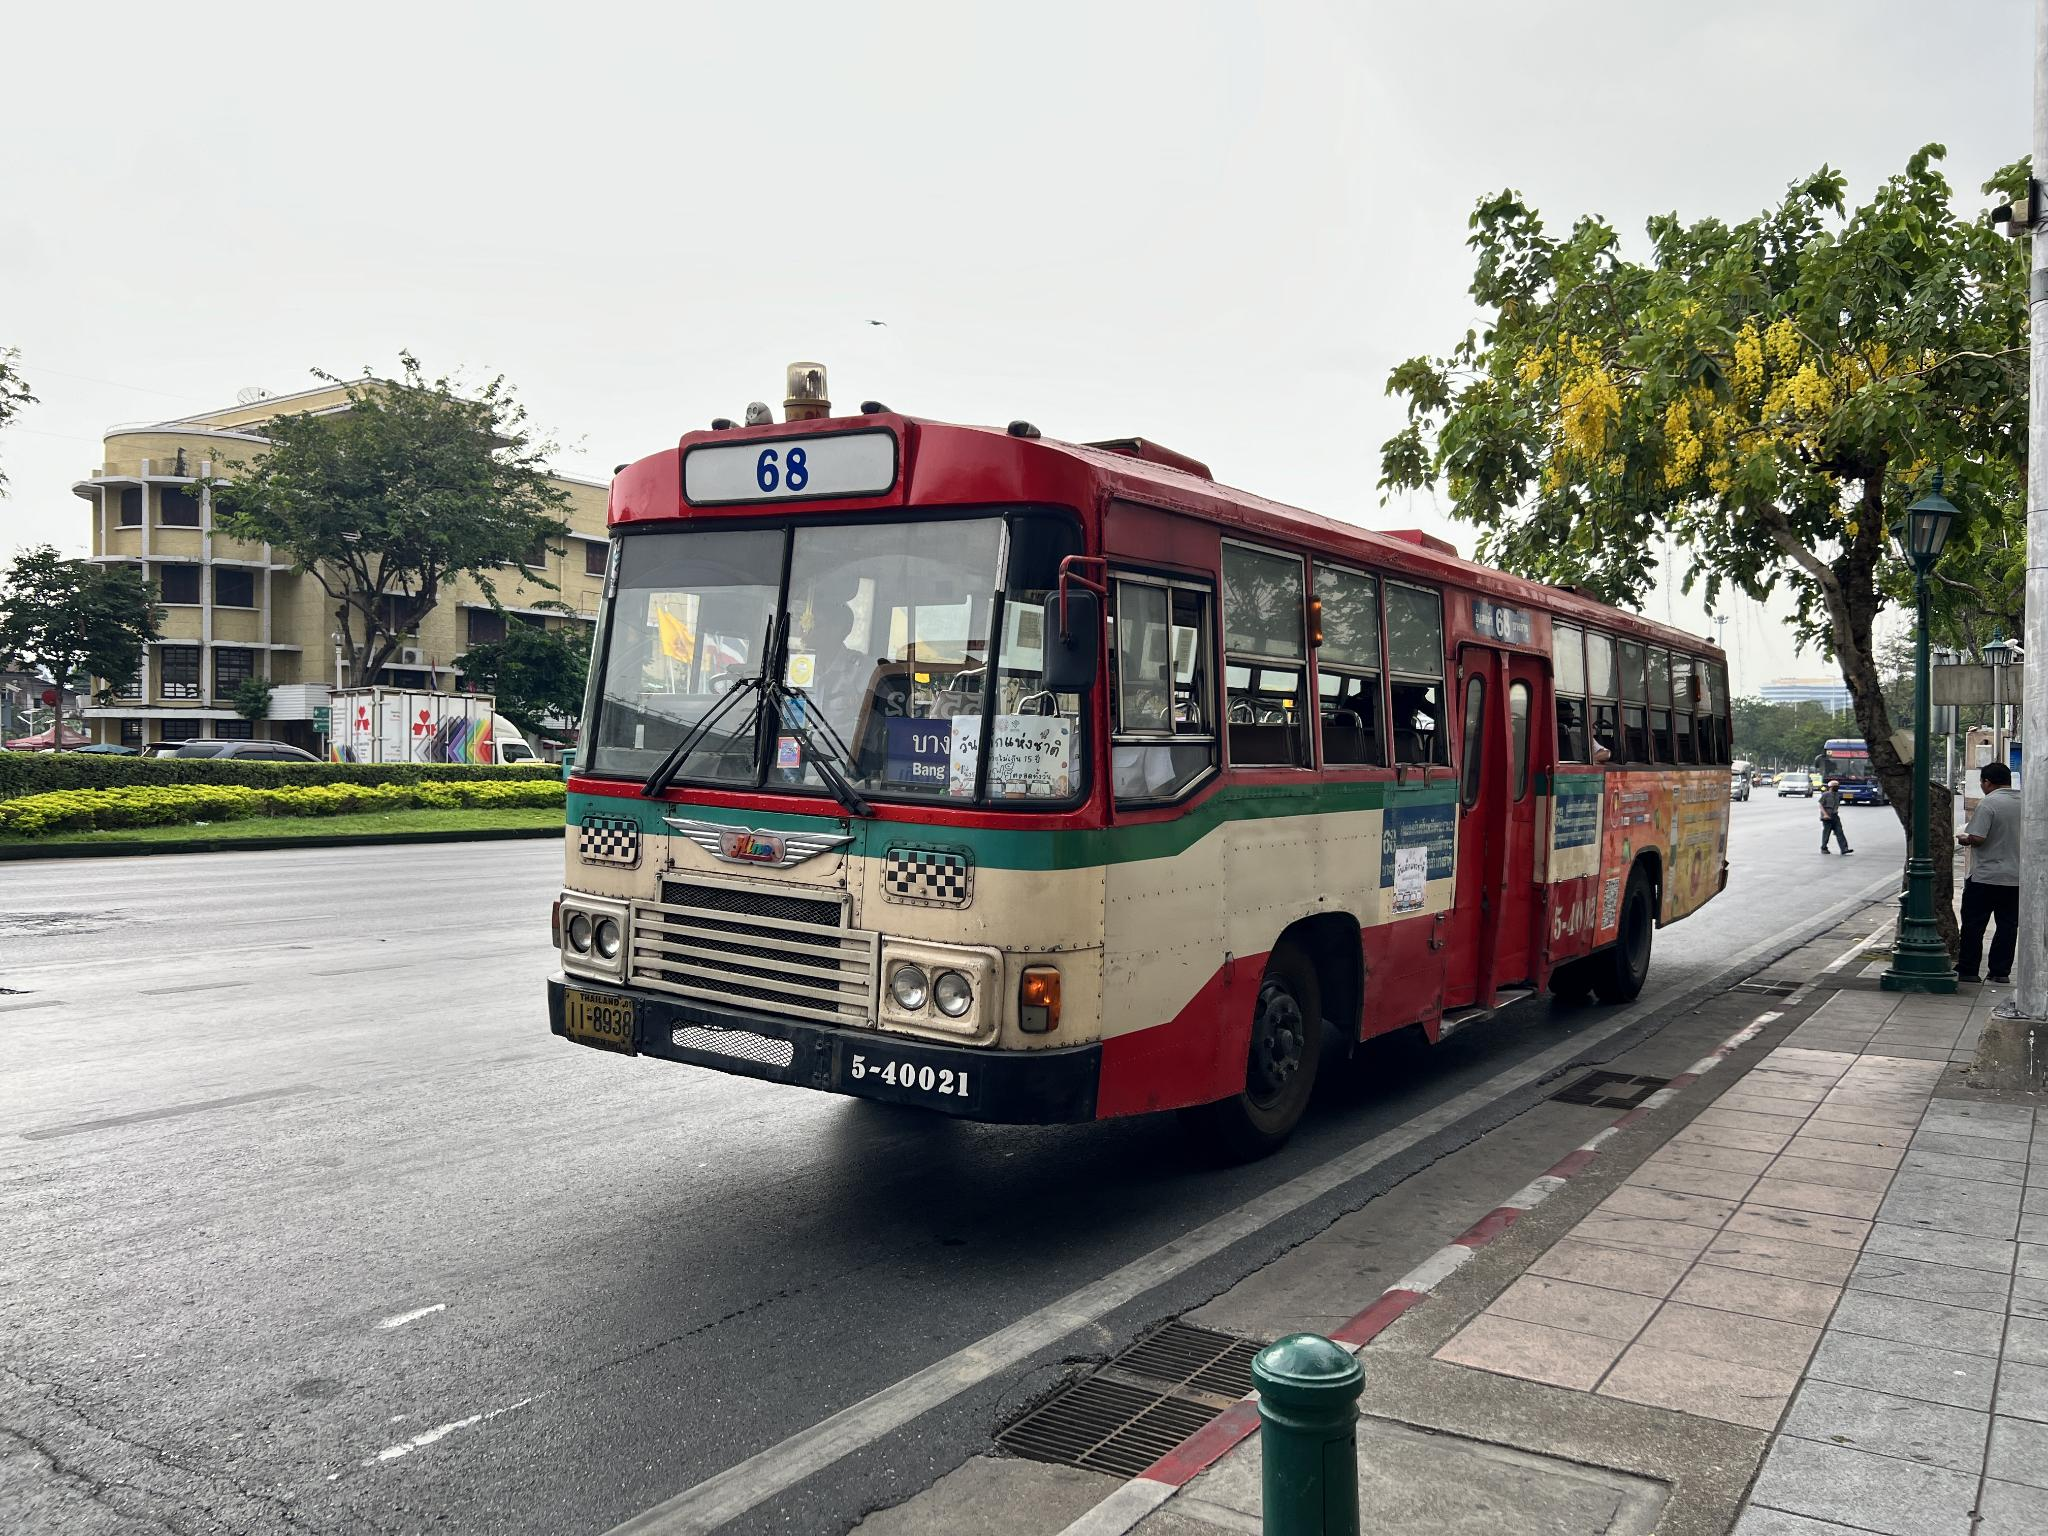BMTA-bus: (542, 368, 1737, 1157)
Bus Line Number: (742, 449, 819, 495)
Bus Side Number: (829, 1037, 984, 1113)
Destination Sign: (877, 712, 950, 789)
